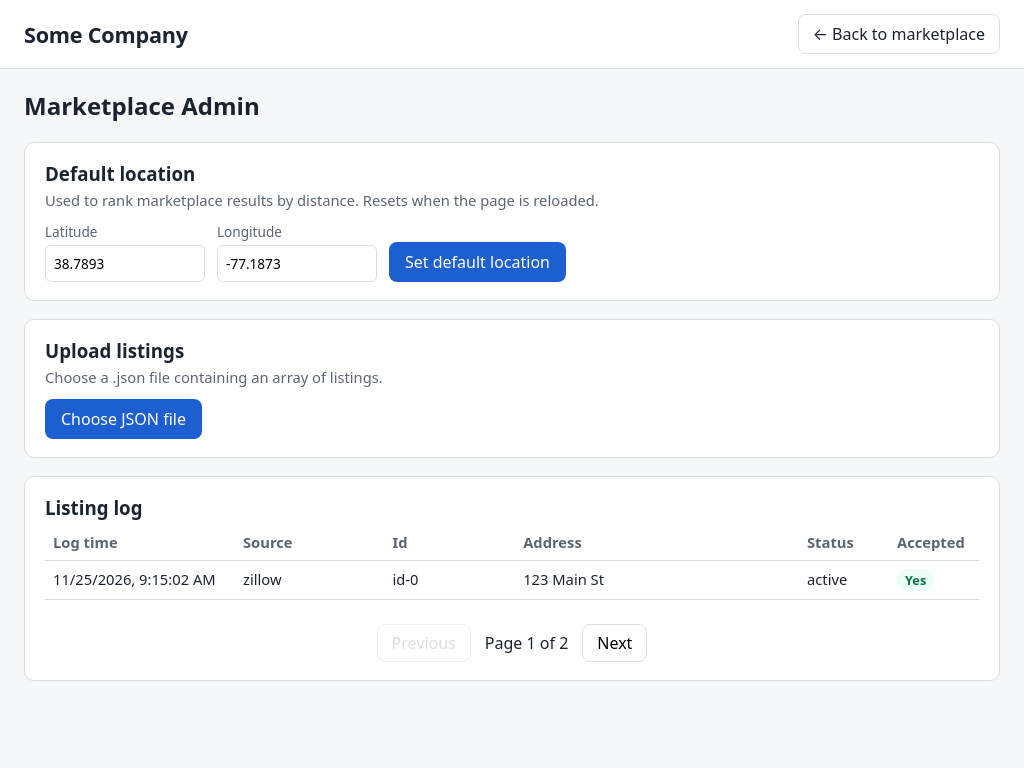
Scenario: AdminPage › paginates the log list
Expected: the text "Page 1 of 2" is shown, top-left (485, 632), bottom-right (568, 654)
Click the button "Next": [615, 643] box top-left (582, 624), bottom-right (647, 662)
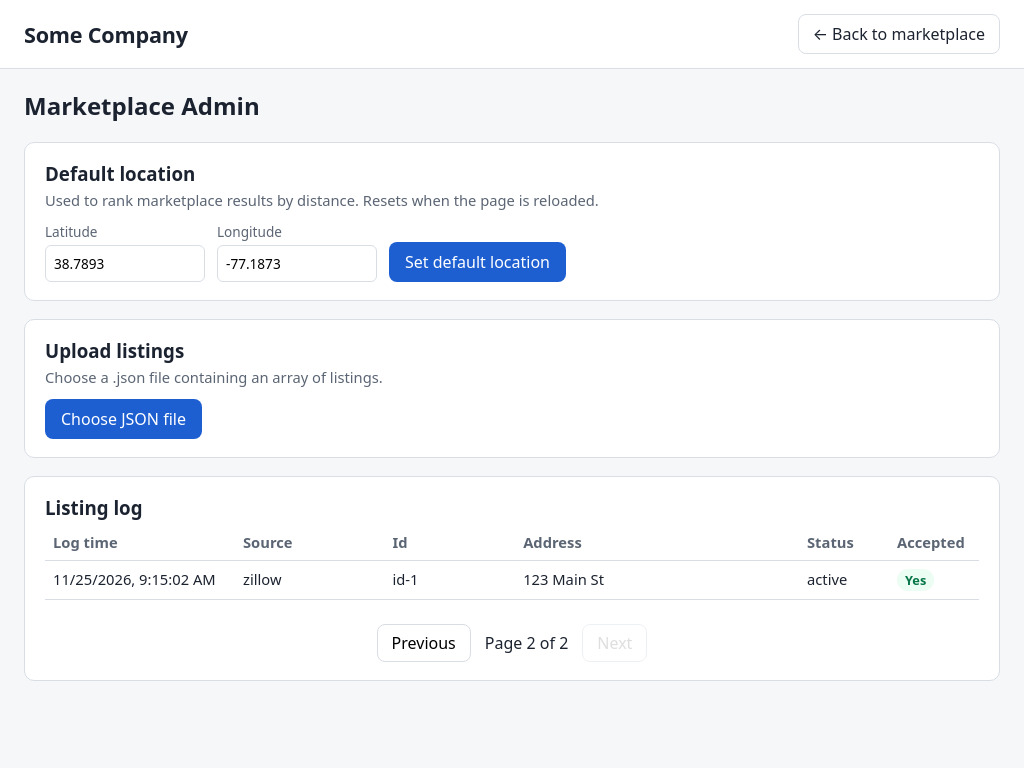
Now the text "id-1" is shown, box top-left (384, 560), bottom-right (515, 599)
